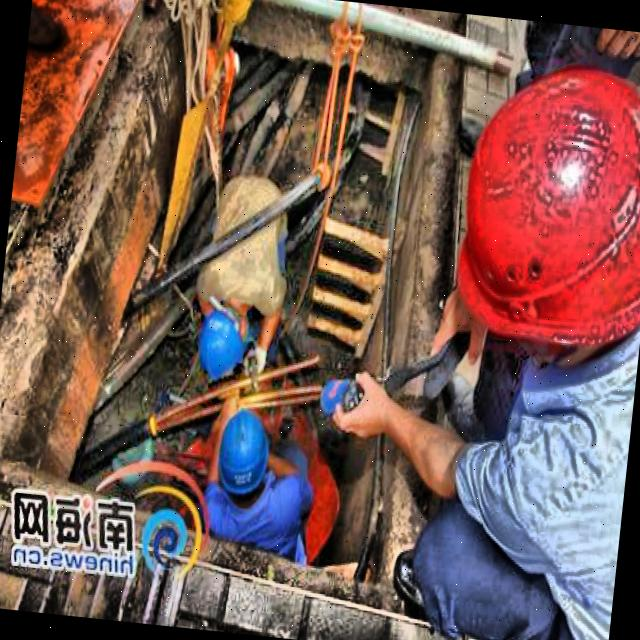helmet: (427, 33, 640, 410), (211, 407, 280, 507), (192, 304, 254, 386)
